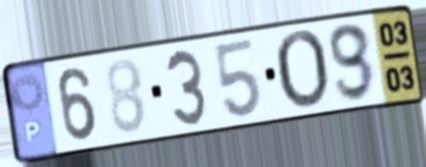3: (164, 45, 208, 129)
5: (211, 35, 264, 121)
6: (56, 65, 100, 144)
8: (103, 54, 150, 139)
9: (325, 19, 380, 104)
O: (272, 27, 332, 113)
